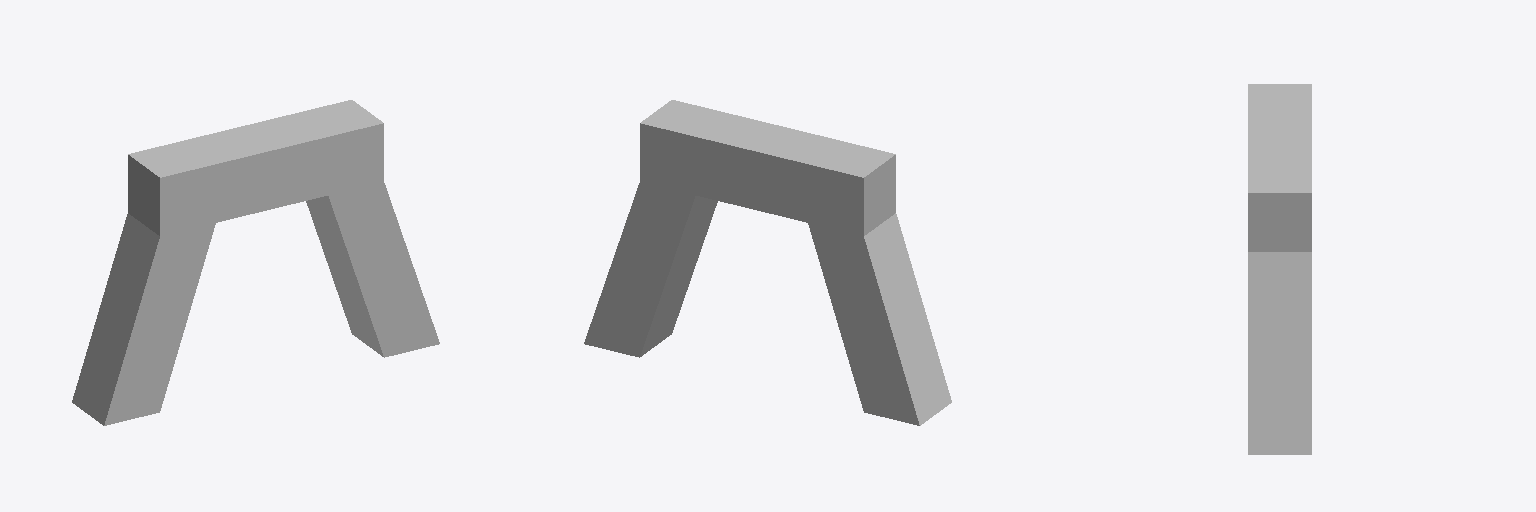
Rendered from CheckPoint.obj.
The picture shows the model from 3 angles: view 1: azimuth 30°, elevation 25°; view 2: azimuth 150°, elevation 25°; view 3: azimuth 270°, elevation 25°; orthographic projection.
Visible parts, largest first — view 1: pCube5; view 2: pCube5; view 3: pCube5.
Part boxes in pixels (x1,y1,x2,y2): pCube5: (72, 100, 439, 425); pCube5: (584, 100, 951, 425); pCube5: (1248, 84, 1311, 454).
Bounding box in the file's own units: 6 × 4 × 1.